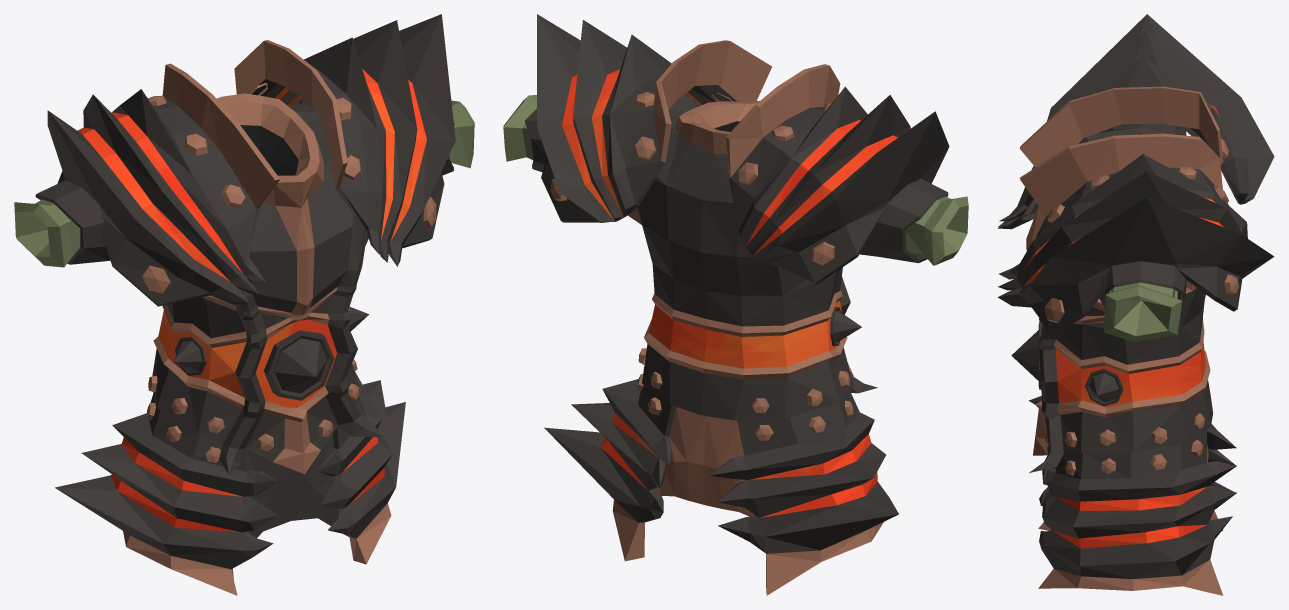
The model's file is armorHellDisplay.fbx.
3 renders of one model, left to right at view 1: azimuth 30°, elevation 25°; view 2: azimuth 150°, elevation 25°; view 3: azimuth 270°, elevation 25°, orthographic. The views are drawn at different scales.
Visible parts, largest first — view 1: armorHellDisplay; view 2: armorHellDisplay; view 3: armorHellDisplay.
Boxes of the visible parts, <box> form: armorHellDisplay: <box>14,14,474,595</box>; armorHellDisplay: <box>503,14,968,595</box>; armorHellDisplay: <box>997,14,1274,595</box>.
Bounding box in the file's own units: 1.75 × 1.87 × 1.01.
Materials: 3 (2 with a texture image).
